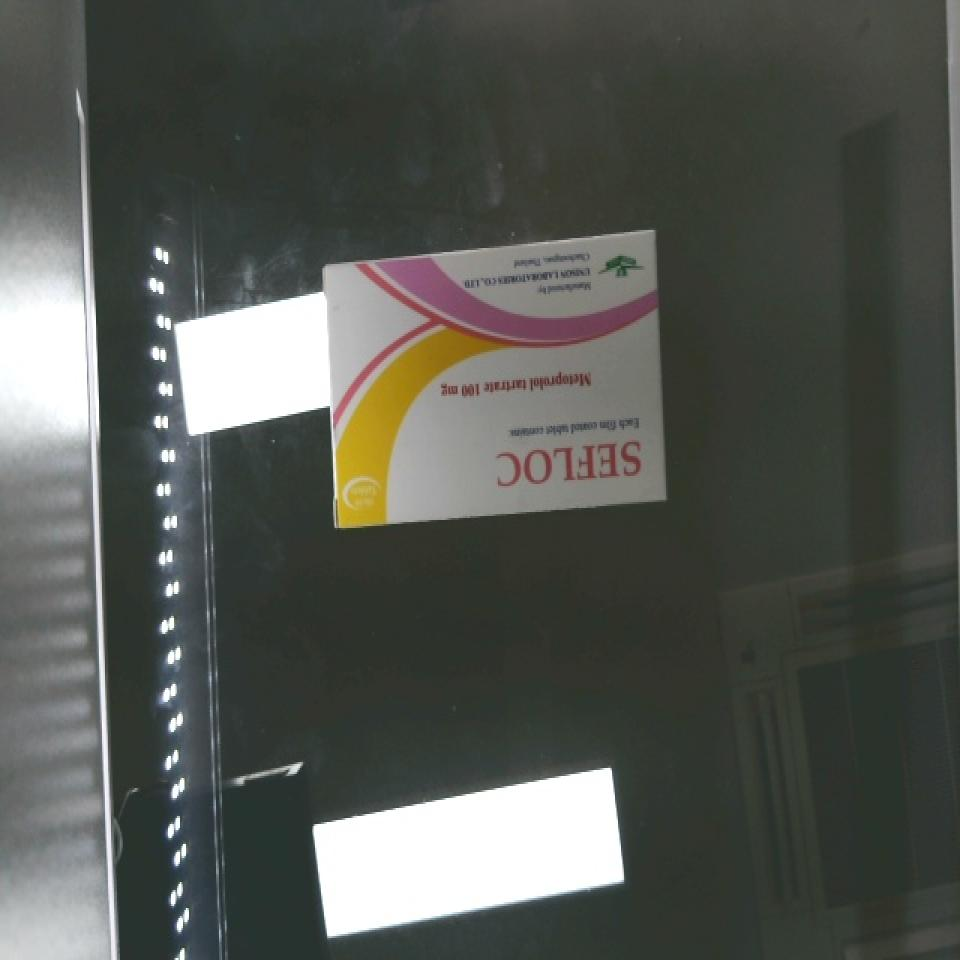medicine_box: (310, 229, 678, 529)
medicine_label_obb: (485, 421, 659, 500)
